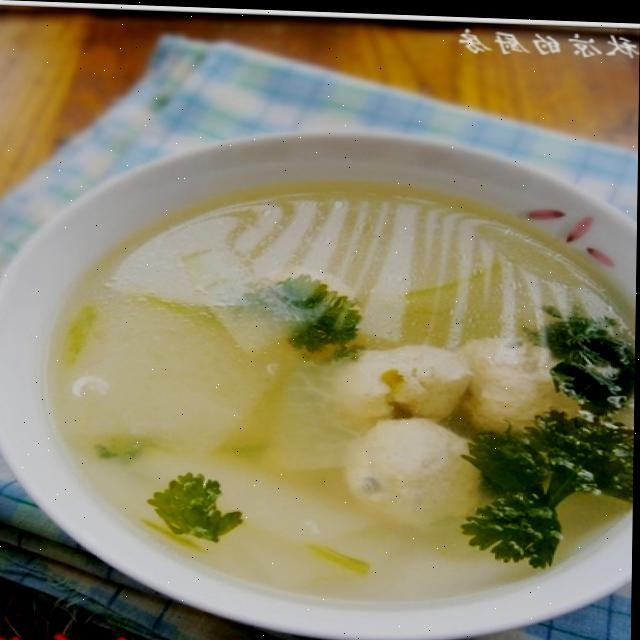汤锅炖物: (12, 94, 639, 640)
